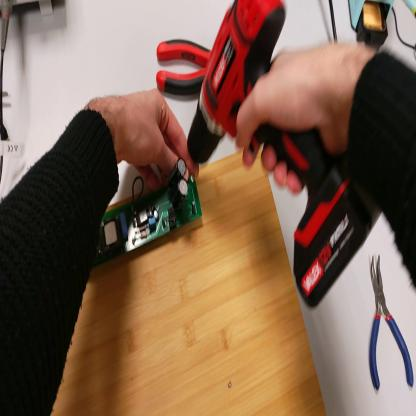electric screwdriver: (186, 2, 379, 316)
hand: (236, 42, 358, 191), (103, 89, 198, 187)
high voltage board: (92, 162, 203, 270)
pliers: (368, 255, 413, 397), (155, 44, 212, 96)
welder base: (349, 4, 393, 44)
working area: (53, 154, 326, 416)
